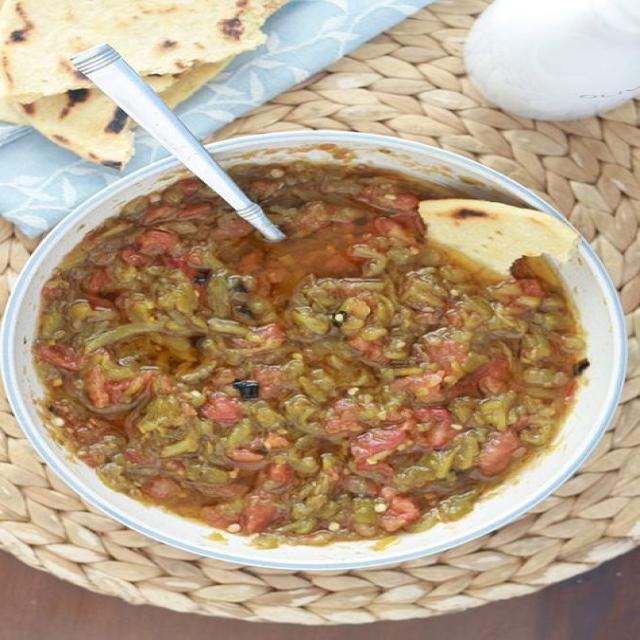Salade mechweya: (0, 117, 618, 544)
